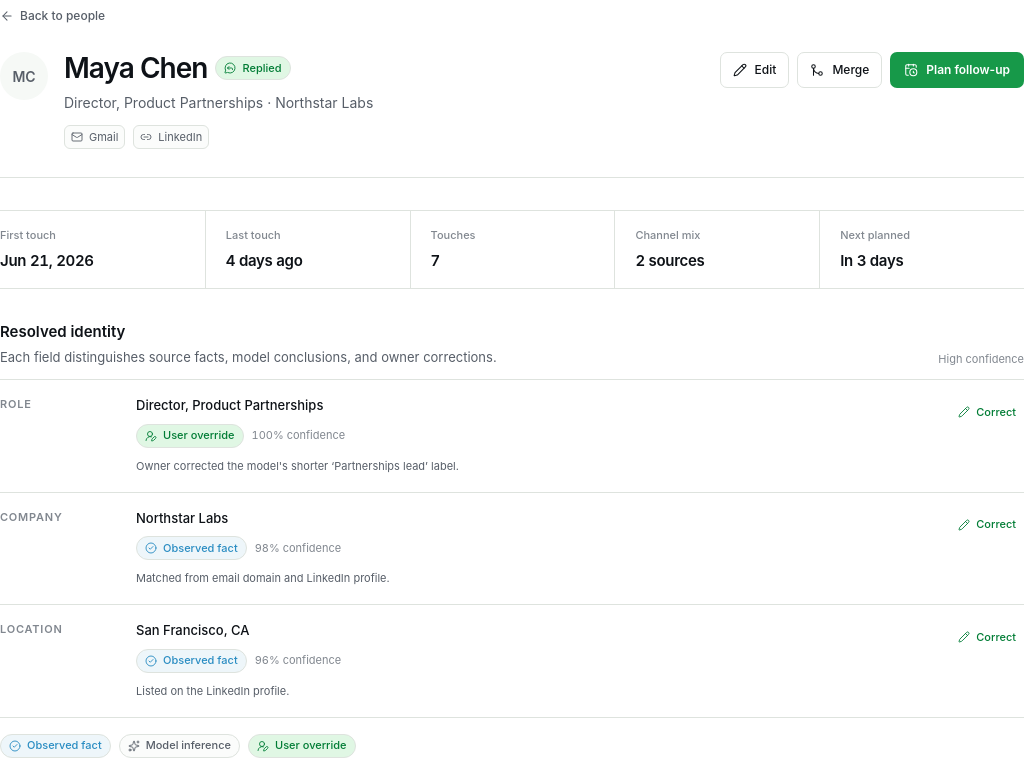
Test: person detail workspace › orders the unified timeline, shows reply evidence, and applies reversible corrections
Expected: the text "Replied" is shown, 216,56 -> 290,80
Click the button "Correct" in the row of "Role": click(987, 412) 950,396 -> 1023,428
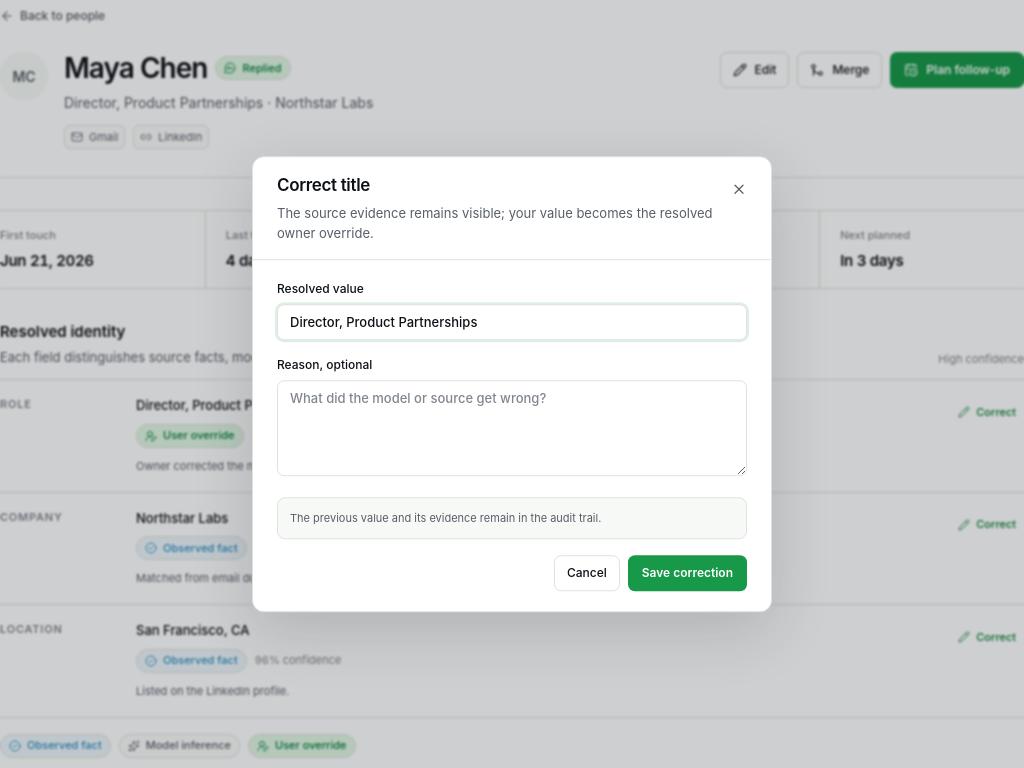
Replace the text in the field labelled "Resolved value" with "VP, Product Partnerships": (512, 322) 277,304 -> 747,340
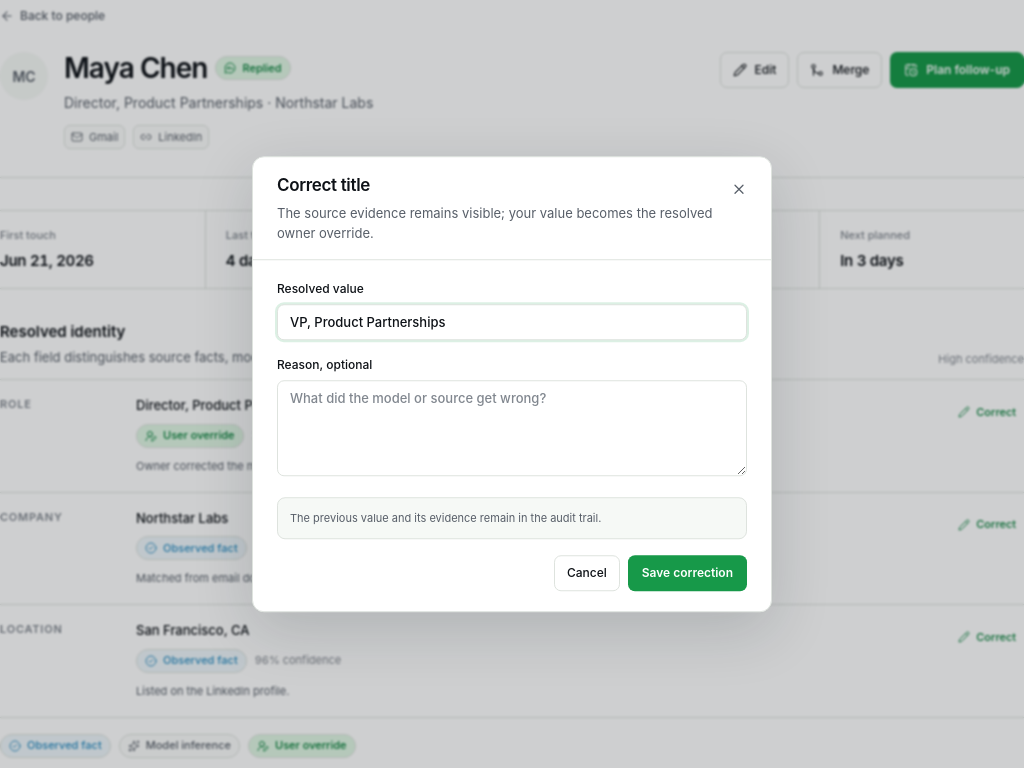
In the text box labelled "Reason, optional": (512, 428) 277,380 -> 747,476, type "Confirmed in a recent note."
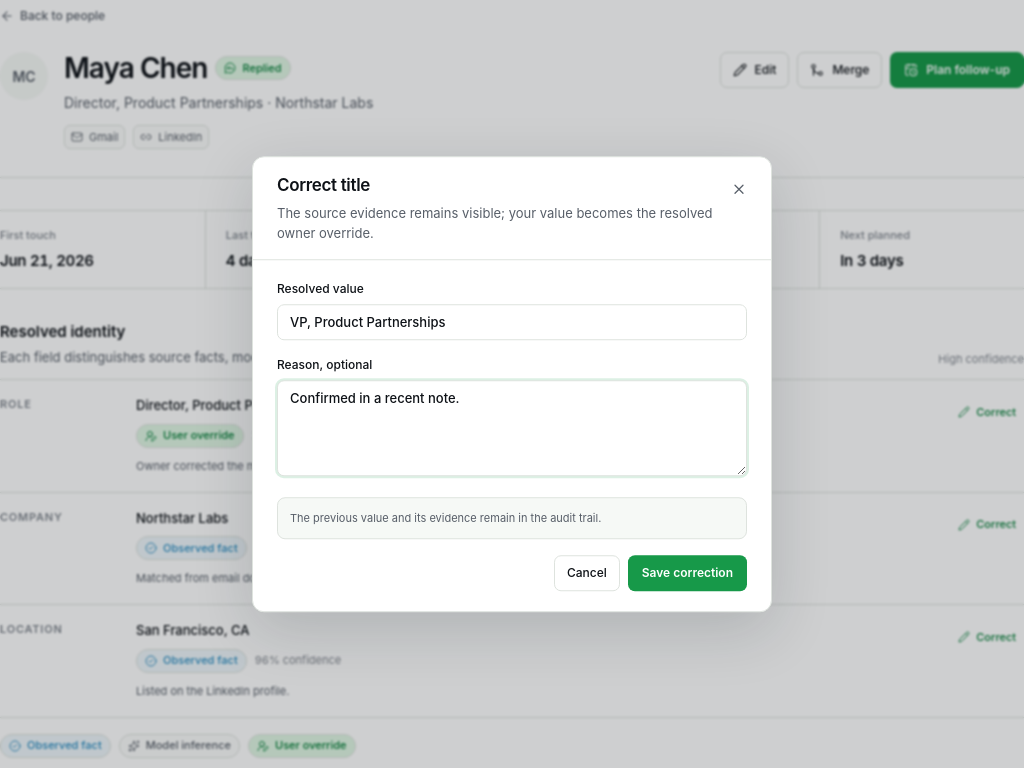
Click the button "Save correction": click(687, 573) 628,555 -> 747,591
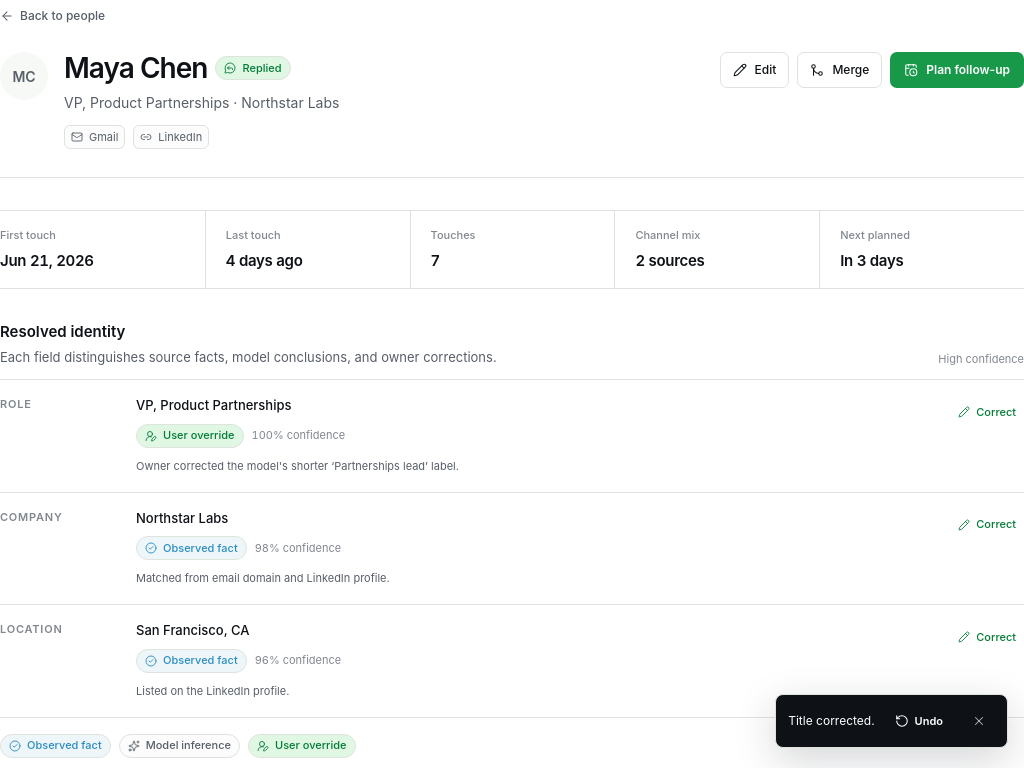
Expected: the text "User override" next to "100" is shown, 163,428 -> 234,442
Expected: the text "VP, Product Partnerships" is shown, 136,397 -> 292,413
Click the button "Undo": click(919, 721) 887,705 -> 951,737
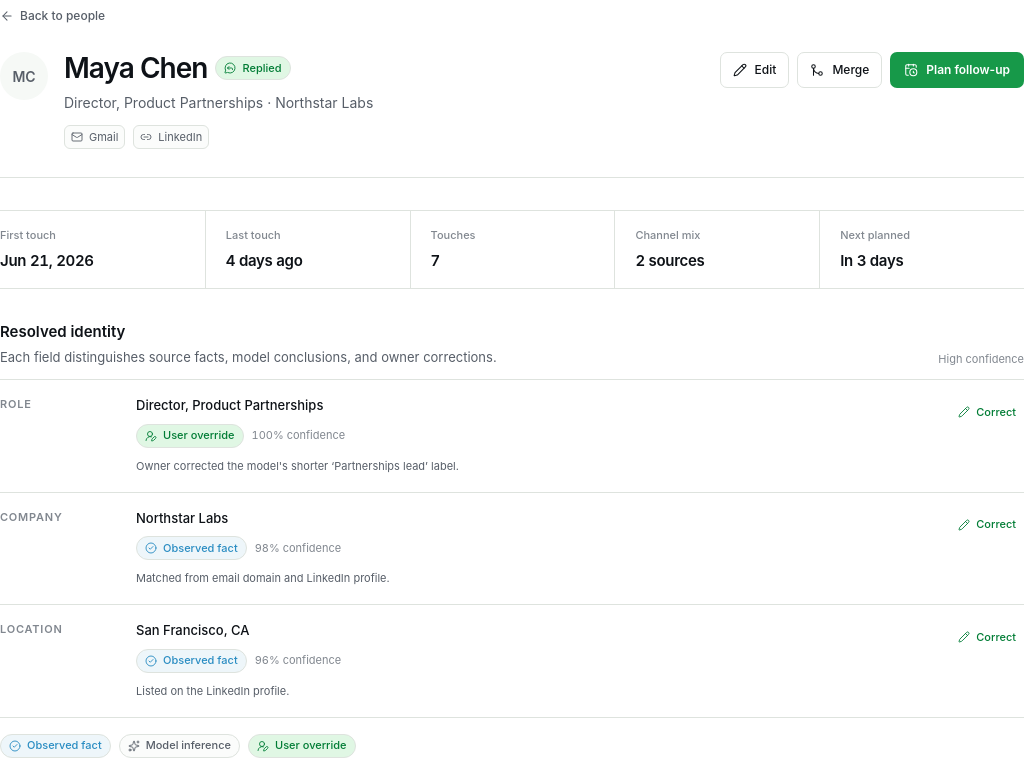
Expected: the text "Director, Product Partnerships" is shown, 136,397 -> 323,413
